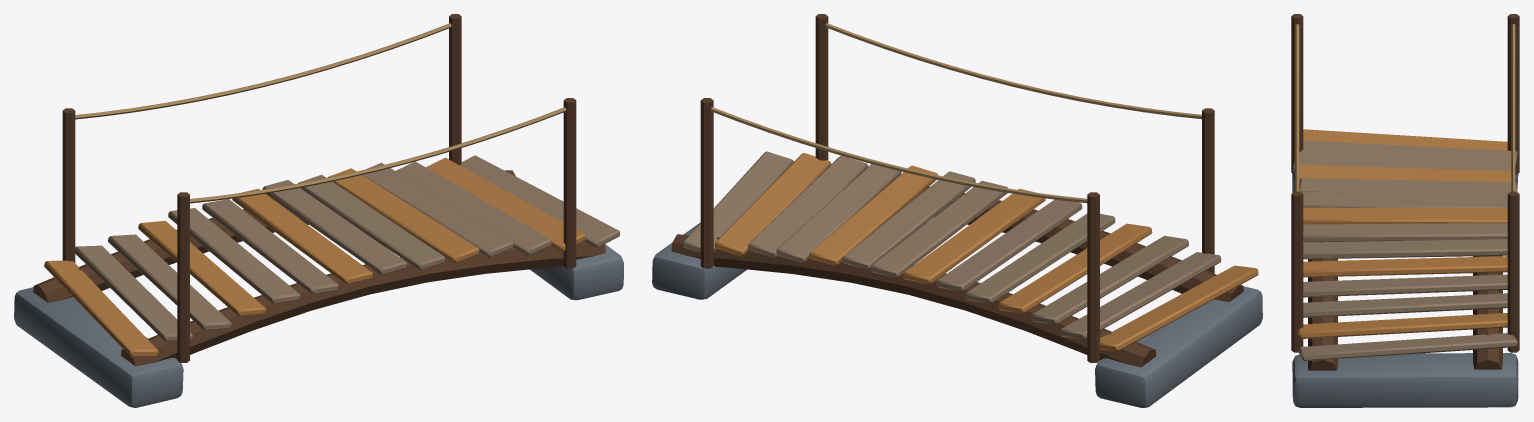
File: deco_walkway_planks.fbx
3 renders of one model, left to right at view 1: azimuth 30°, elevation 25°; view 2: azimuth 150°, elevation 25°; view 3: azimuth 270°, elevation 25°, orthographic. The views are drawn at different scales.
Parts seen in each view (by area): view 1: Walkway_Planks_Deck, Walkway_Planks_Beams, Walkway_Planks_Rails; view 2: Walkway_Planks_Deck, Walkway_Planks_Beams, Walkway_Planks_Rails; view 3: Walkway_Planks_Deck, Walkway_Planks_Beams, Walkway_Planks_Rails.
Part boxes in pixels (x1,y1,x2,y2): Walkway_Planks_Deck: (44,155,620,356); Walkway_Planks_Beams: (14,170,623,407); Walkway_Planks_Rails: (62,14,576,362); Walkway_Planks_Deck: (682,151,1258,351); Walkway_Planks_Beams: (652,181,1262,407); Walkway_Planks_Rails: (700,14,1214,362); Walkway_Planks_Deck: (1293,129,1517,361); Walkway_Planks_Beams: (1292,173,1518,407); Walkway_Planks_Rails: (1291,14,1519,352).
Bounding box in the file's own units: 361 × 141 × 152.
